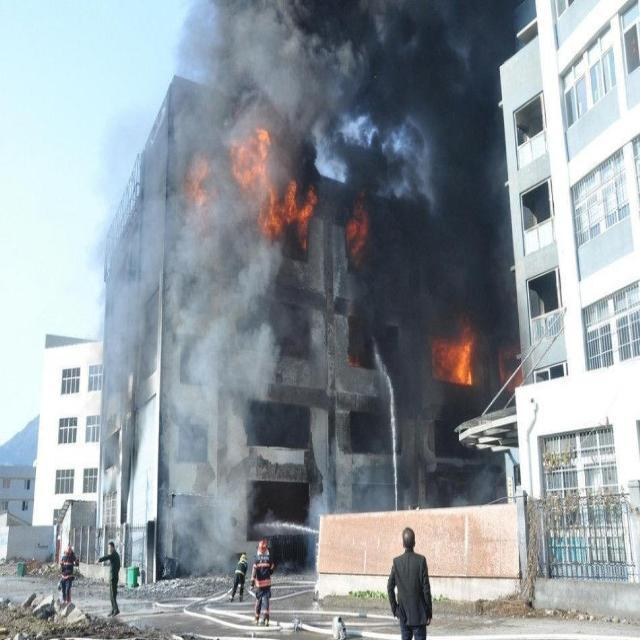Fire: (230, 126, 318, 252), (431, 318, 477, 387), (344, 200, 369, 256)
Smoke: (92, 1, 538, 575)
